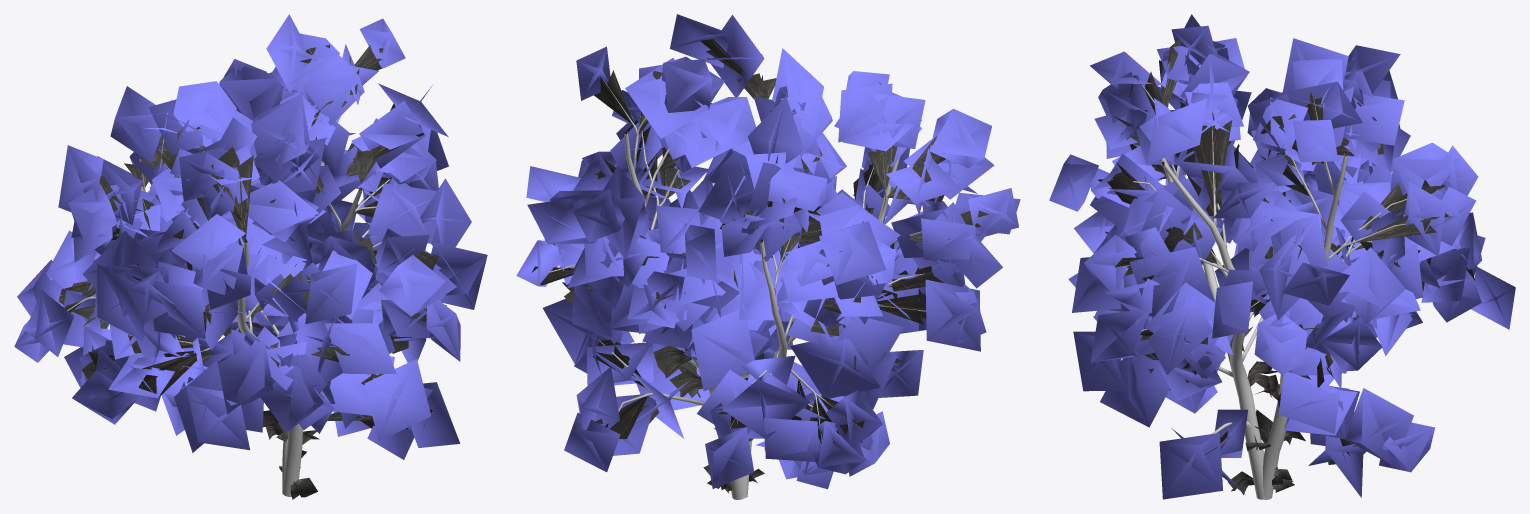
The model's file is Birch_5.fbx.
3 views of the same model, side by side, from view 1: azimuth 30°, elevation 25°; view 2: azimuth 150°, elevation 25°; view 3: azimuth 270°, elevation 25° (orthographic). The views are drawn at different scales.
Parts seen in each view (by area): view 1: Birch_5; view 2: Birch_5; view 3: Birch_5.
Part boxes in pixels (x1,y1,x2,y2): Birch_5: [14, 14, 487, 499]; Birch_5: [516, 14, 1020, 499]; Birch_5: [1049, 14, 1515, 499].
Bounding box in the file's own units: 26.93 × 28.15 × 26.09.
